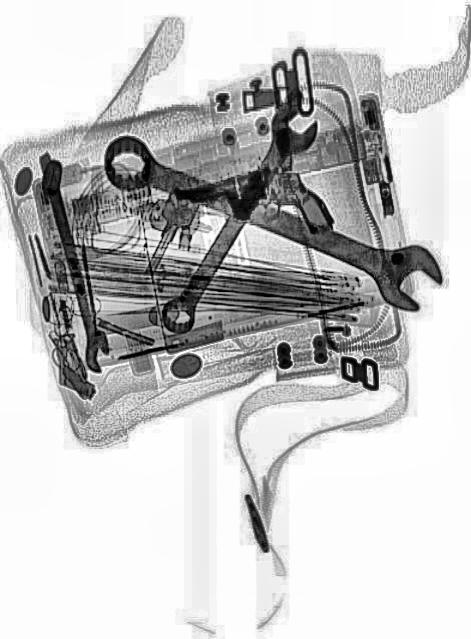Gun: (166, 153, 334, 267)
Wrench: (93, 119, 449, 323), (150, 92, 320, 348), (28, 149, 114, 375)
